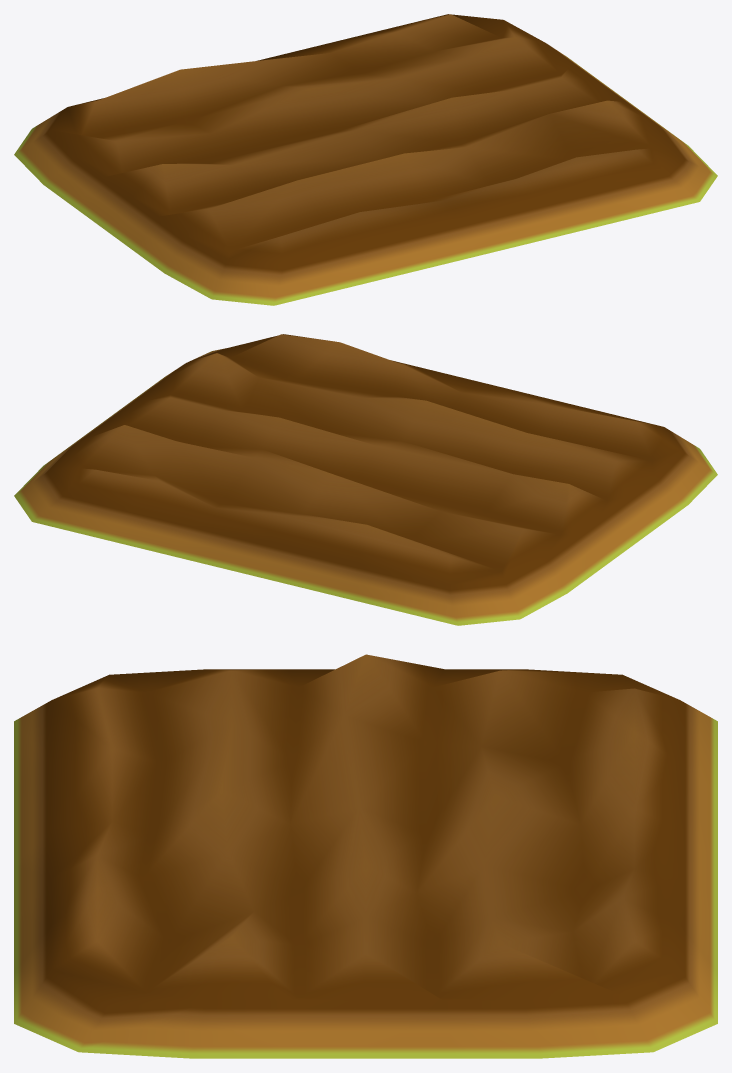
The model's file is garden.fbx.
The picture shows the model from 3 angles, top to bottom: view 1: azimuth 30°, elevation 25°; view 2: azimuth 150°, elevation 25°; view 3: azimuth 270°, elevation 25°; orthographic projection. The views are drawn at different scales.
Parts seen in each view (by area): view 1: garden; view 2: garden; view 3: garden.
Boxes of the visible parts, bbox=[...] form: garden: bbox=[14, 14, 717, 305]; garden: bbox=[14, 334, 717, 625]; garden: bbox=[14, 654, 717, 1058].
Bounding box in the file's own units: 548 × 50.88 × 438.
